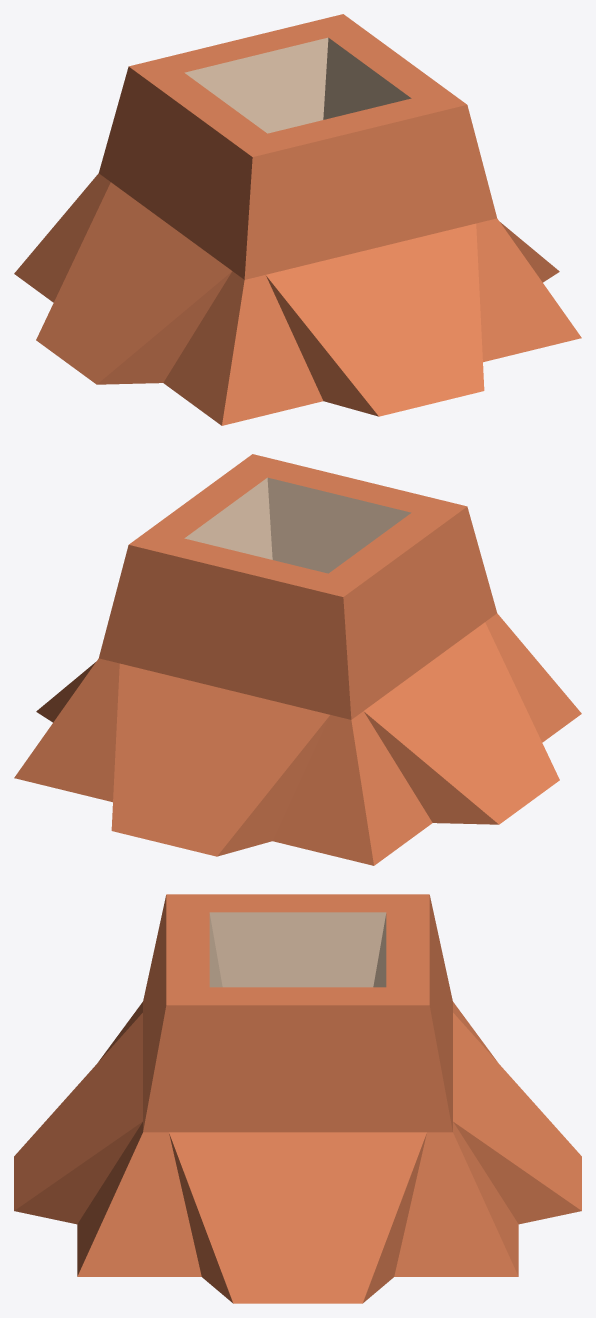
Rendered from stump_squareDetailed.dae.
The picture shows the model from 3 angles, top to bottom: view 1: azimuth 30°, elevation 25°; view 2: azimuth 150°, elevation 25°; view 3: azimuth 270°, elevation 25°; orthographic projection. The views are drawn at different scales.
Visible parts, largest first — view 1: stump_squareDetailed; view 2: stump_squareDetailed; view 3: stump_squareDetailed.
Part boxes in pixels (x1,y1,x2,y2): stump_squareDetailed: (14, 14, 581, 425); stump_squareDetailed: (14, 454, 581, 865); stump_squareDetailed: (14, 894, 581, 1303).
Bounding box in the file's own units: 0.44 × 0.2 × 0.44.
